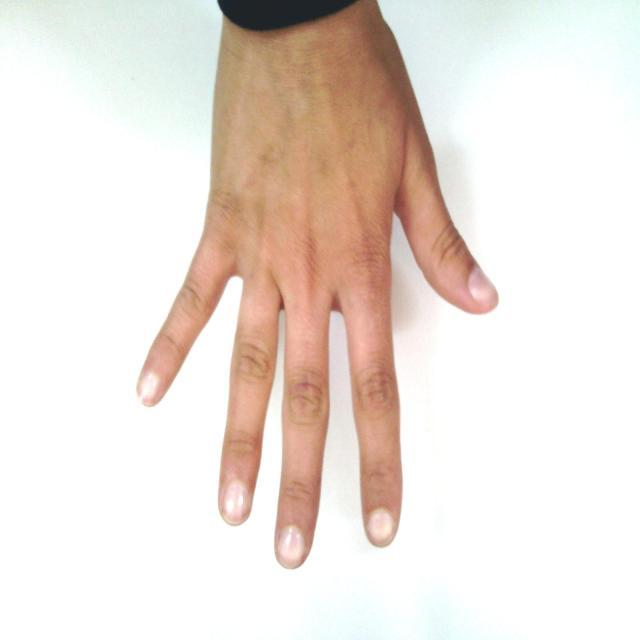Fingernail: (469, 269, 497, 306), (278, 528, 304, 567), (223, 483, 246, 523), (369, 510, 394, 545), (139, 374, 158, 404)
